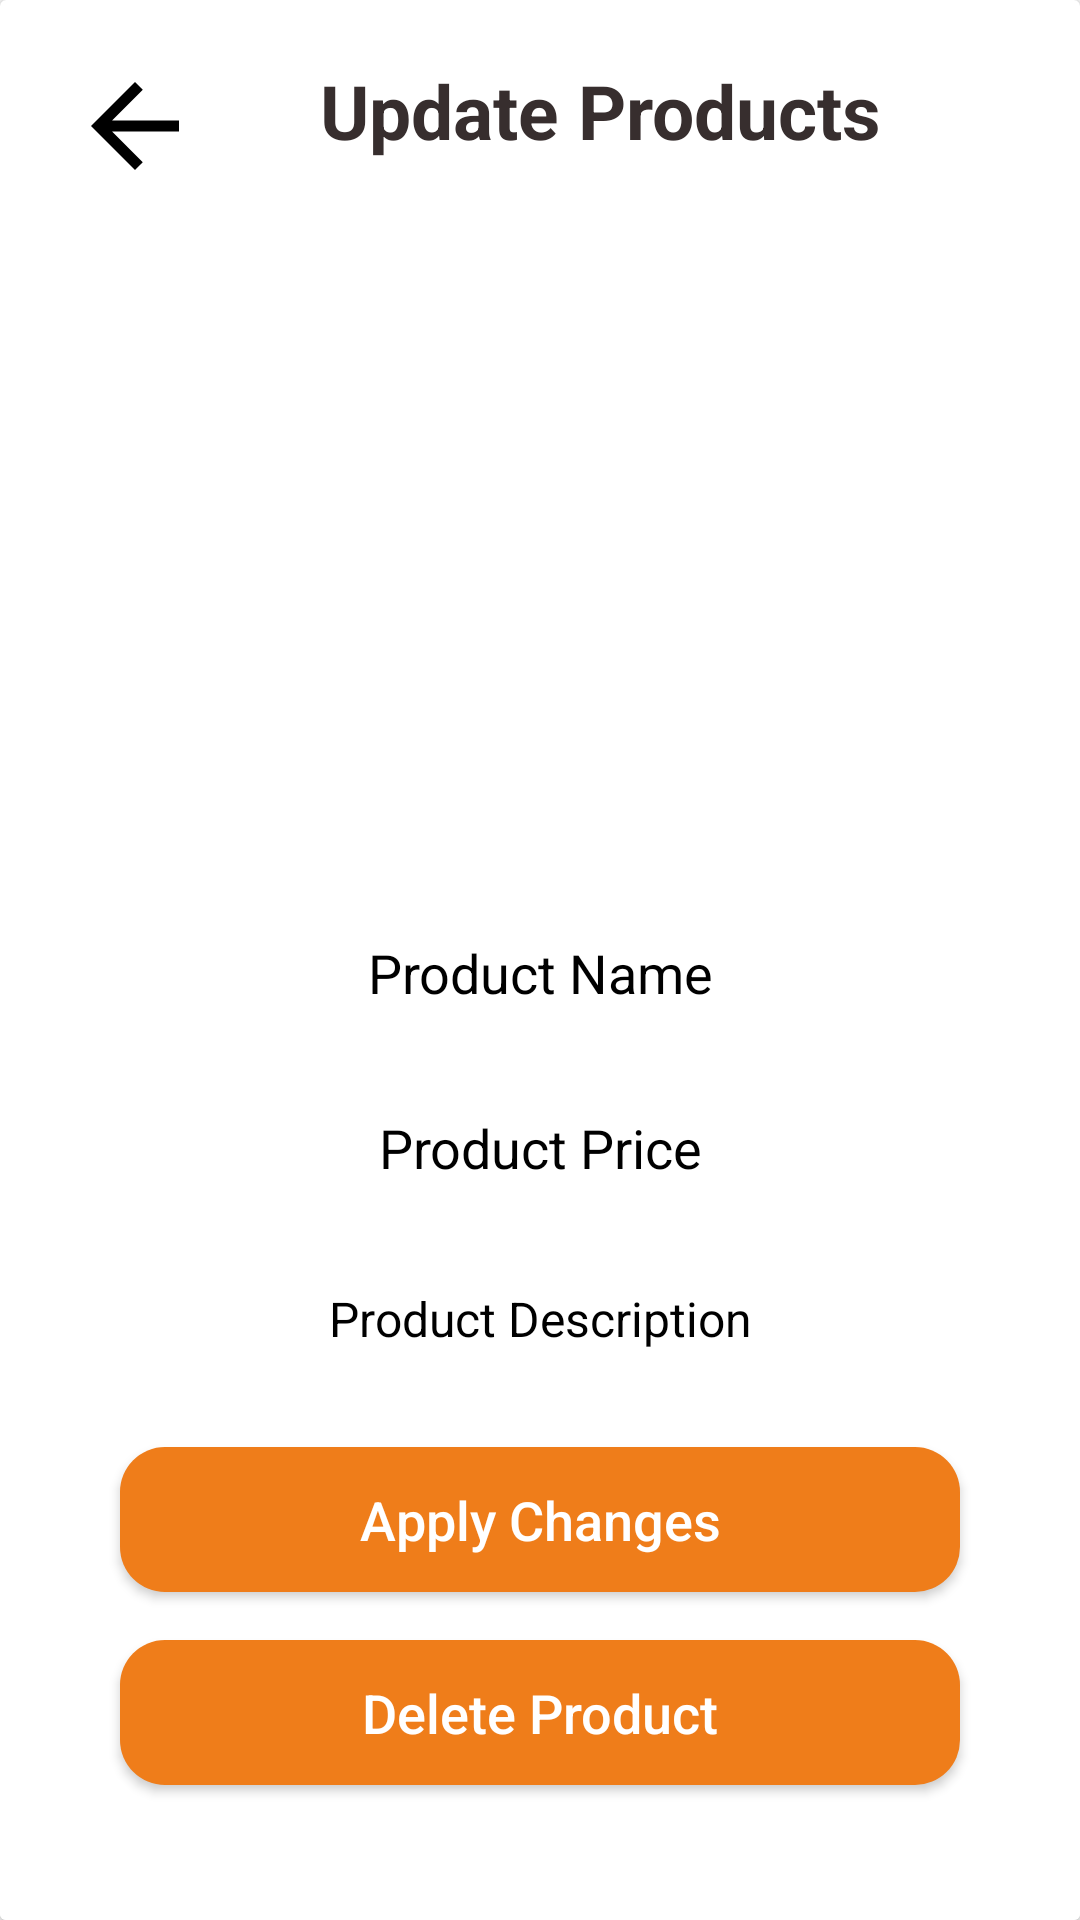

Screen size 1080×1920. Icon name, then its box in pixels as (x1, y1, x2, y2):
back: (91, 82, 179, 170)
